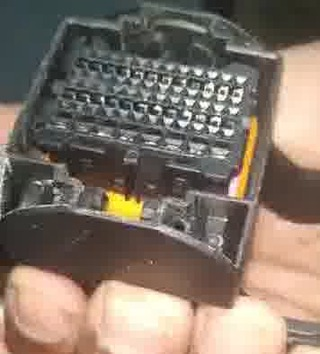connector: (1, 3, 282, 308)
